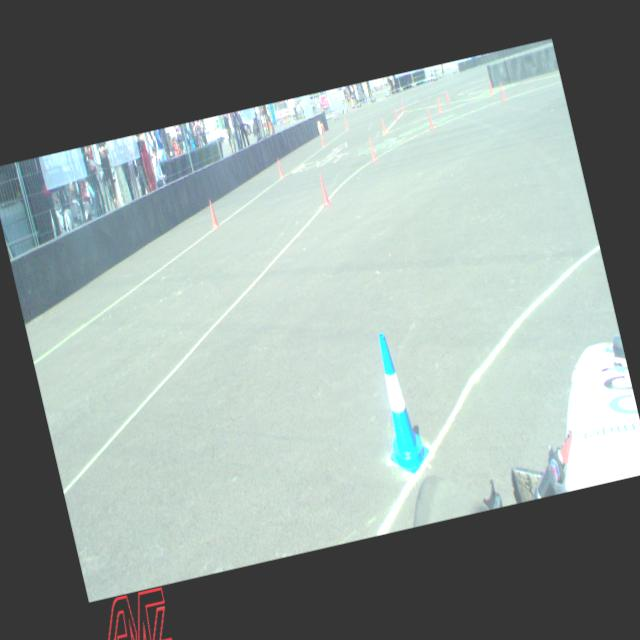blue_cone: (362, 327, 434, 478)
